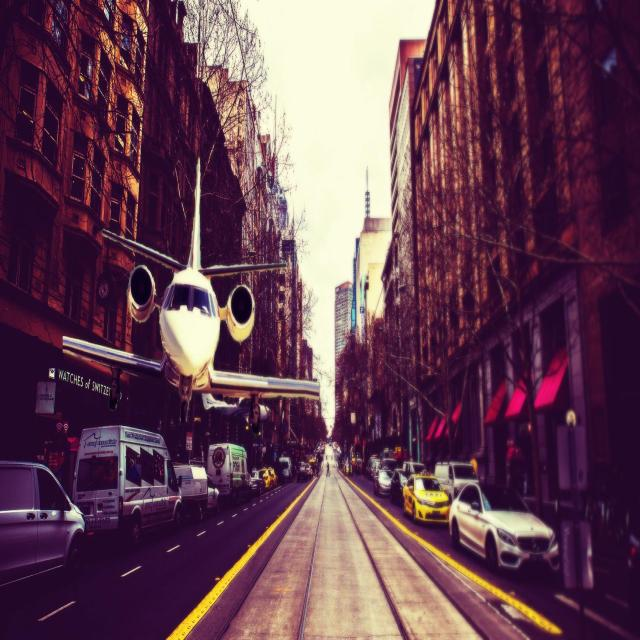airplane: (62, 155, 320, 427)
